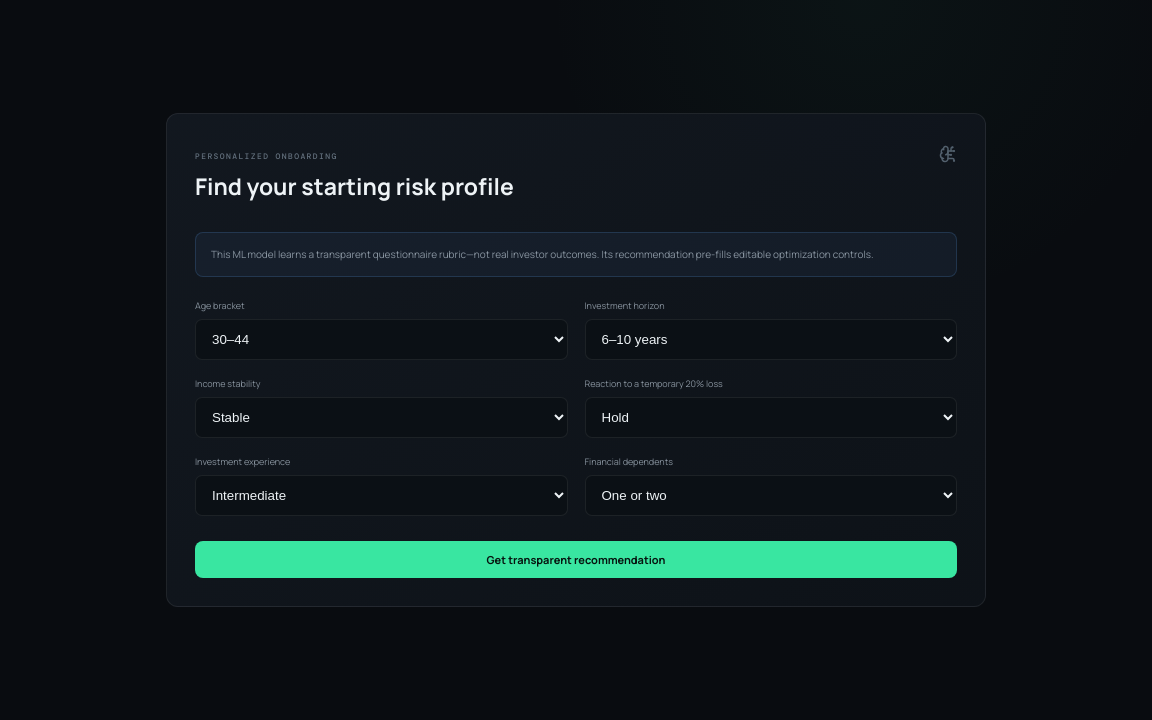
Test case: RiskQuestionnaire › renders the shared error state for a failed API request
Click the button "Get transparent recommendation": (576, 559) top-left (195, 540), bottom-right (957, 578)
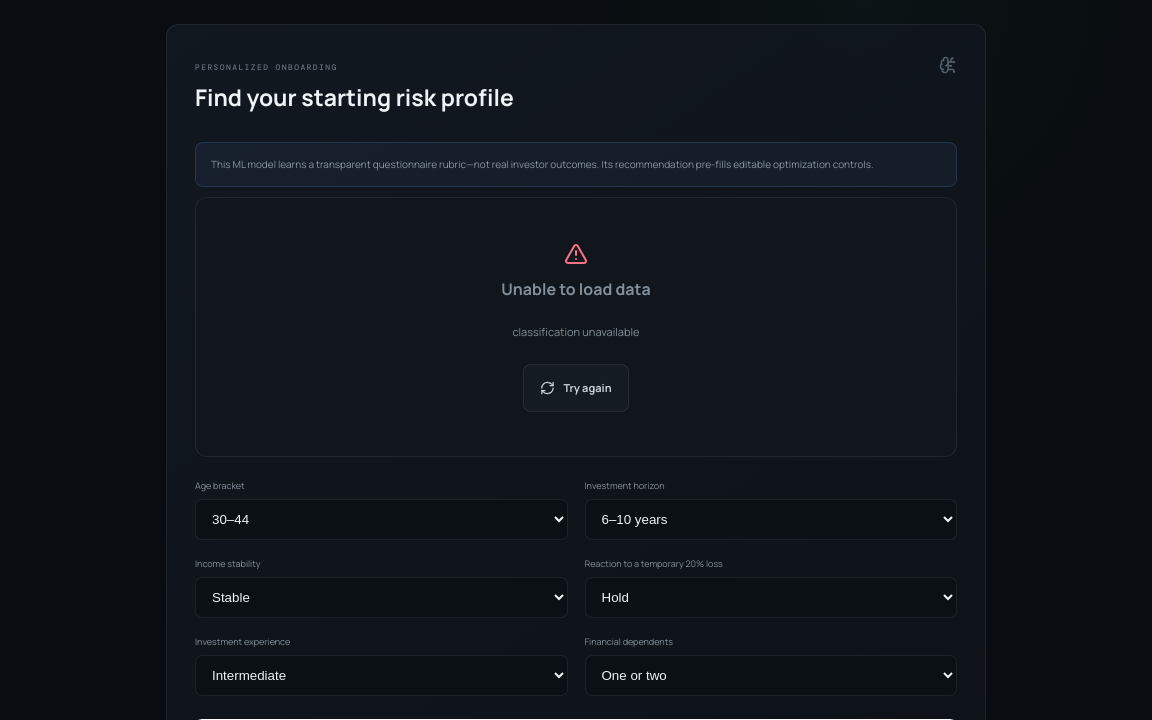
Now the message shows "classification unavailable", box top-left (513, 324), bottom-right (639, 339)
